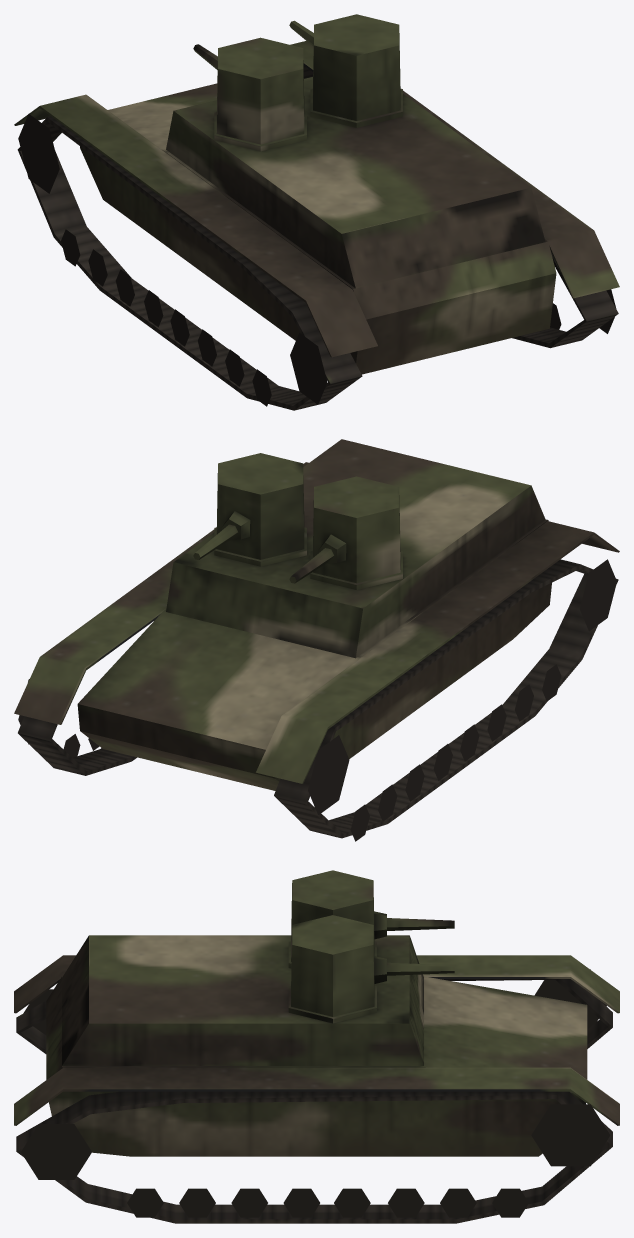
The picture shows the model from 3 angles, top to bottom: view 1: azimuth 30°, elevation 25°; view 2: azimuth 150°, elevation 25°; view 3: azimuth 270°, elevation 25°; orthographic projection. The views are drawn at different scales.
Parts seen in each view (by area): view 1: Chassis, Chenille_Gauche_01, Tourelle_01, Tourelle_02, Chenille_Droite_01, Roue_G1, Roue_G10; view 2: Chassis, Chenille_Gauche_01, Tourelle_02, Tourelle_01, Chenille_Droite_01, Roue_G1, Roue_G10, Canon_01, Canon_02; view 3: Chassis, Chenille_Droite_01, Tourelle_02, Tourelle_01, Roue_D1, Roue_D10, Chenille_Gauche_01, Roue_D3, Roue_D5, Roue_D4, Roue_D6, Roue_D8 (+6 smaller).
Part boxes in pixels (x1,y1,x2,y2): Chassis: [14, 41, 619, 374]; Chenille_Gauche_01: [17, 116, 362, 410]; Tourelle_01: [214, 37, 306, 151]; Tourelle_02: [310, 14, 402, 127]; Chenille_Droite_01: [303, 65, 618, 348]; Roue_G1: [18, 114, 59, 193]; Roue_G10: [290, 333, 327, 404]; Chassis: [14, 439, 619, 790]; Chenille_Gauche_01: [274, 559, 618, 838]; Tourelle_02: [214, 453, 306, 566]; Tourelle_01: [310, 476, 402, 589]; Chenille_Droite_01: [18, 716, 136, 775]; Roue_G1: [308, 735, 349, 814]; Roue_G10: [580, 559, 616, 631]; Canon_01: [289, 548, 333, 583]; Canon_02: [193, 524, 237, 559]; Chassis: [14, 935, 619, 1156]; Chenille_Droite_01: [16, 1091, 612, 1223]; Tourelle_02: [288, 915, 376, 1023]; Tourelle_01: [288, 870, 376, 968]; Roue_D1: [531, 1104, 610, 1166]; Roue_D10: [21, 1124, 91, 1179]; Chenille_Gauche_01: [16, 979, 612, 1053]; Roue_D3: [440, 1188, 476, 1217]; Roue_D5: [334, 1188, 370, 1217]; Roue_D4: [388, 1188, 424, 1217]; Roue_D6: [283, 1188, 319, 1217]; Roue_D8: [179, 1188, 215, 1217].
Size of the model in its own units: 241 by 458 by 204.
Materials: 1 (1 with a texture image).
